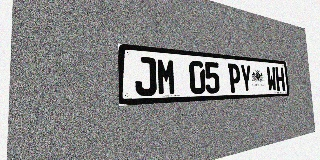0: (189, 60, 206, 94)
5: (205, 61, 220, 94)
H: (275, 67, 285, 91)
J: (134, 56, 157, 96)
M: (156, 58, 176, 95)
P: (228, 63, 241, 93)
W: (266, 66, 277, 91)
Y: (240, 64, 252, 92)
